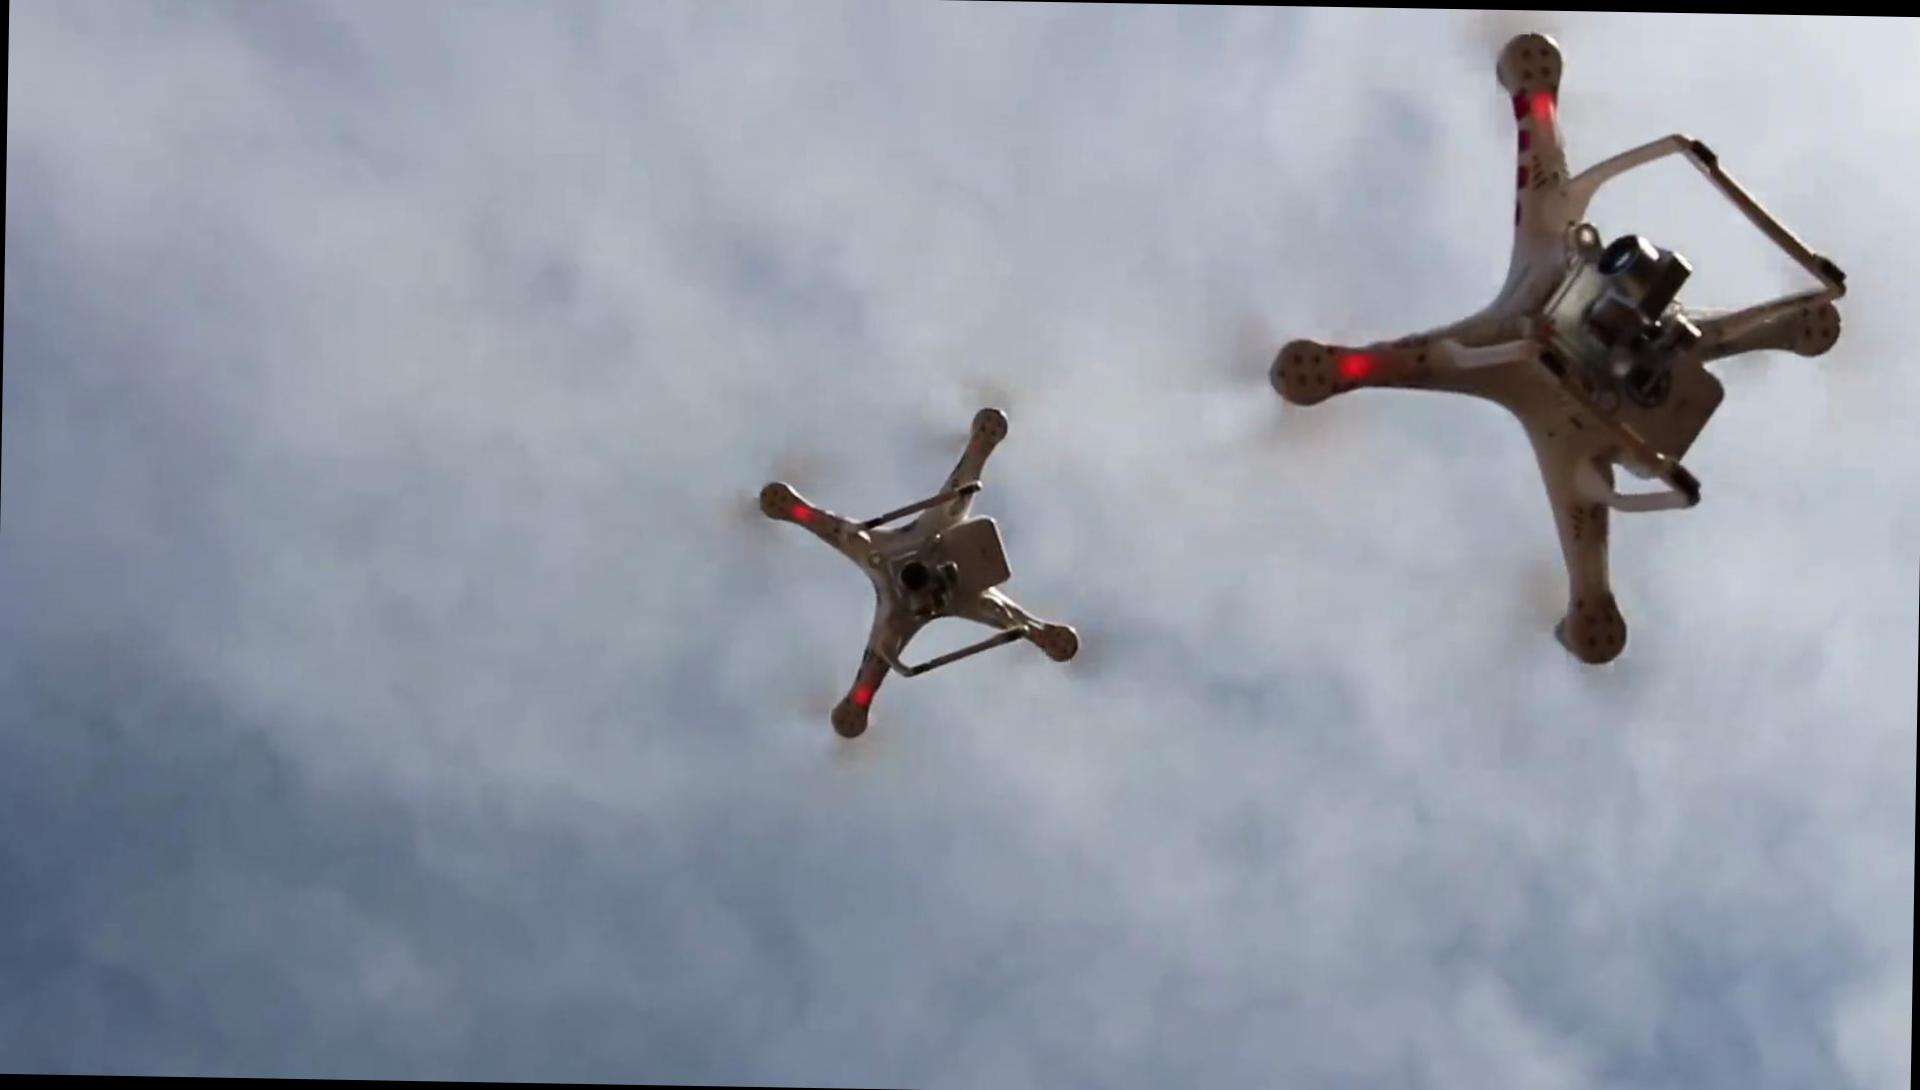drone: (1263, 20, 1853, 668), (748, 394, 1092, 749)
